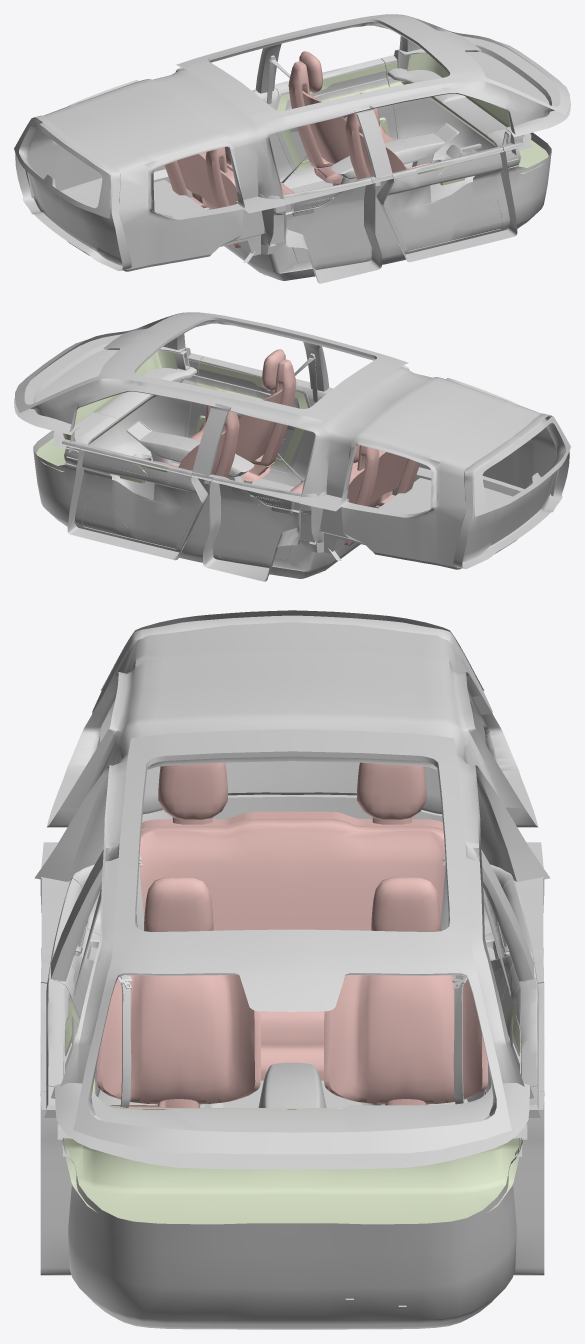
File: carInterior.fbx
3 renders of one model, top to bottom at view 1: azimuth 30°, elevation 25°; view 2: azimuth 150°, elevation 25°; view 3: azimuth 270°, elevation 25°, orthographic. The views are drawn at different scales.
Visible parts, largest first — view 1: Cabin; view 2: Cabin; view 3: Cabin.
Part boxes in pixels (bbox=[...]): Cabin: bbox=[14, 14, 570, 283]; Cabin: bbox=[14, 312, 570, 581]; Cabin: bbox=[34, 610, 550, 1329].
Size of the model in its own units: 389 by 126 by 176.
